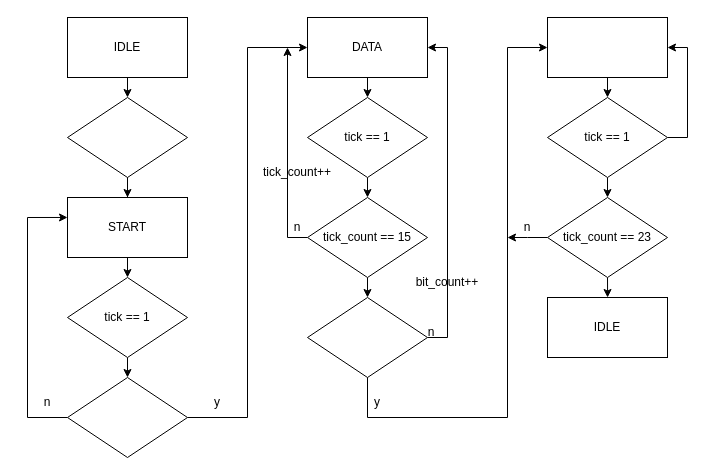
Image size: 713x475. Some labels were removed from this diagram. The box of each missing label's shape, as (x1, y1, x2, y2) in pixels:
bit_count == 7: (306, 296, 428, 378)
rx == 0: (66, 96, 188, 178)
STOP: (546, 16, 668, 78)
tick_count == 7: (66, 376, 188, 458)
